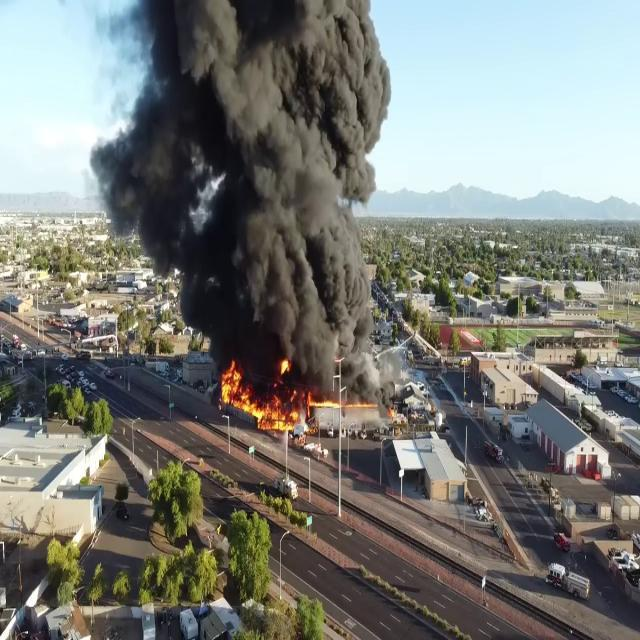Fire: (220, 356, 312, 430)
Smoke: (82, 0, 400, 403)
